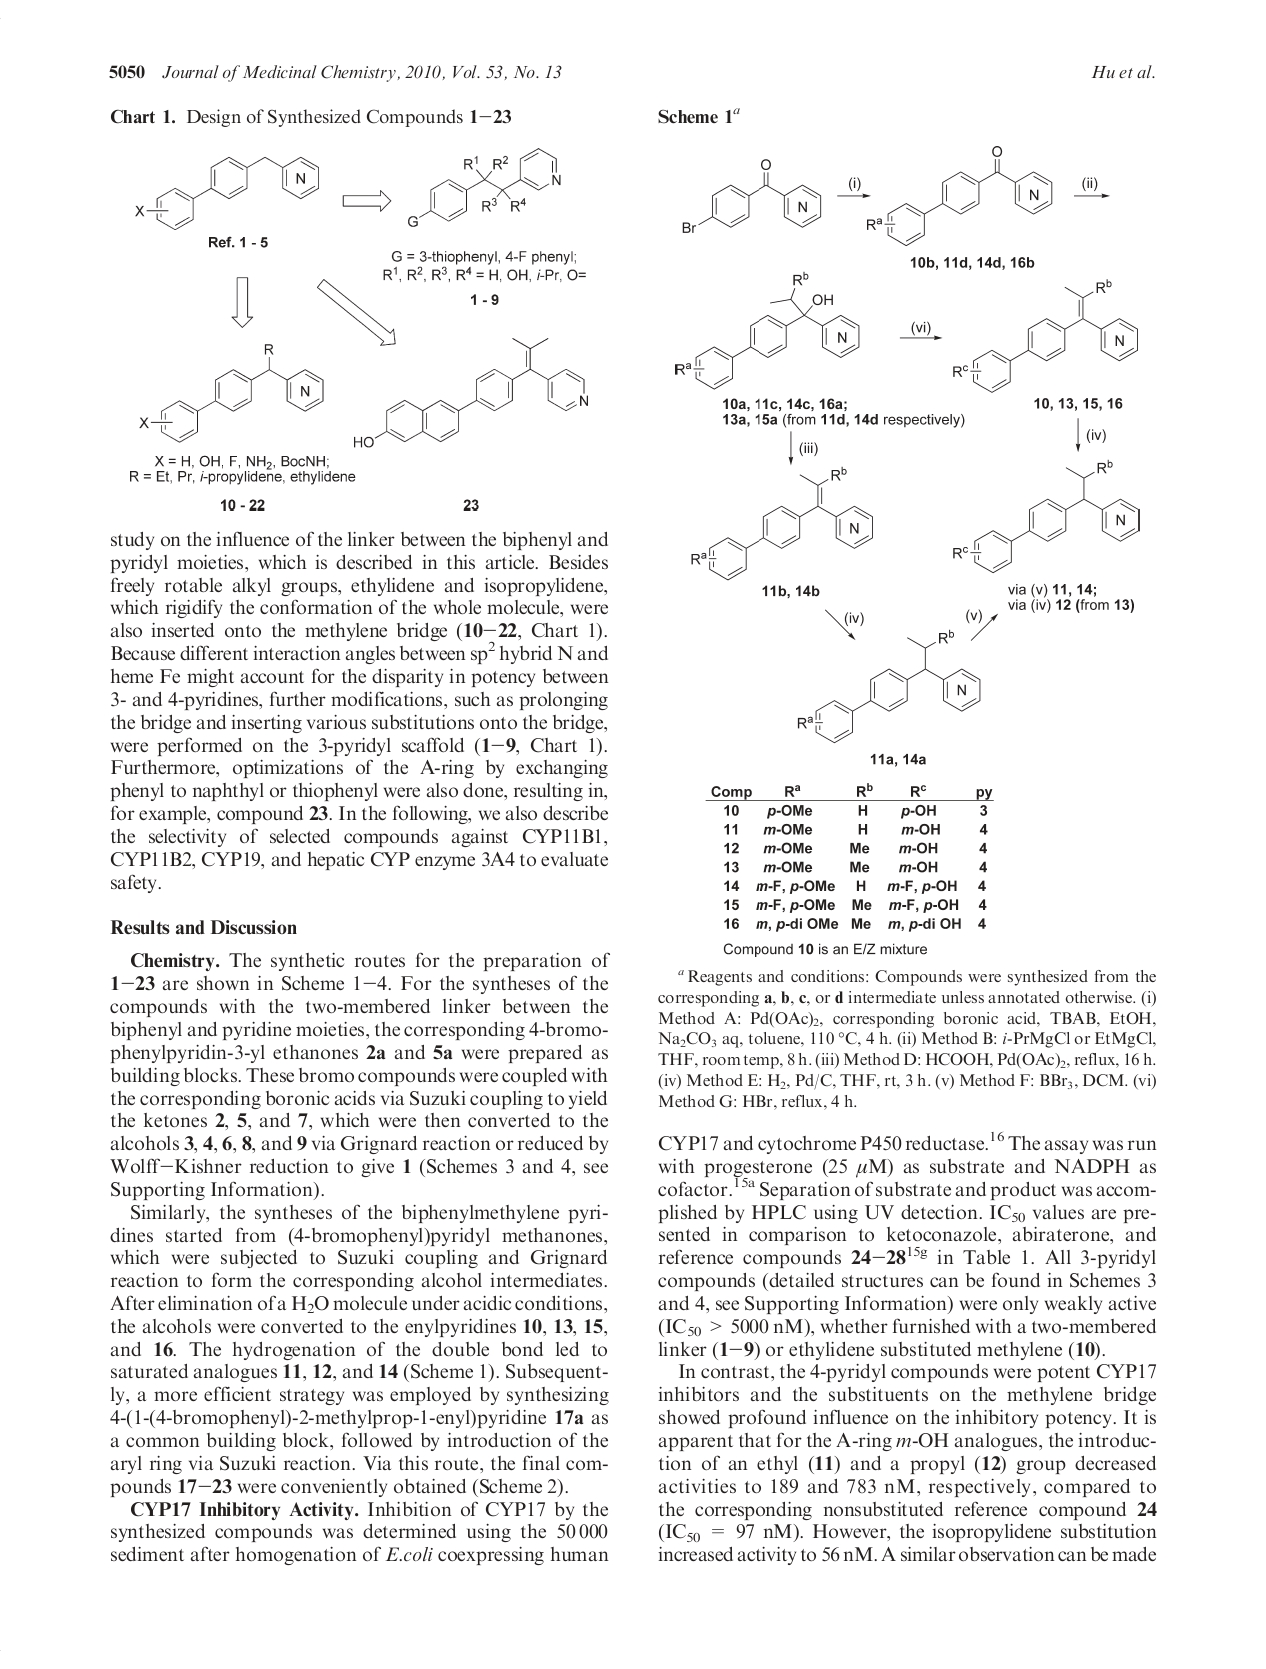exist_molecular: (352, 336, 590, 452), (672, 266, 863, 390), (949, 277, 1141, 394), (797, 626, 983, 746), (953, 457, 1144, 575), (688, 464, 875, 580), (137, 340, 326, 444), (866, 144, 1053, 246), (132, 156, 320, 233), (407, 148, 561, 230), (680, 156, 824, 235)
